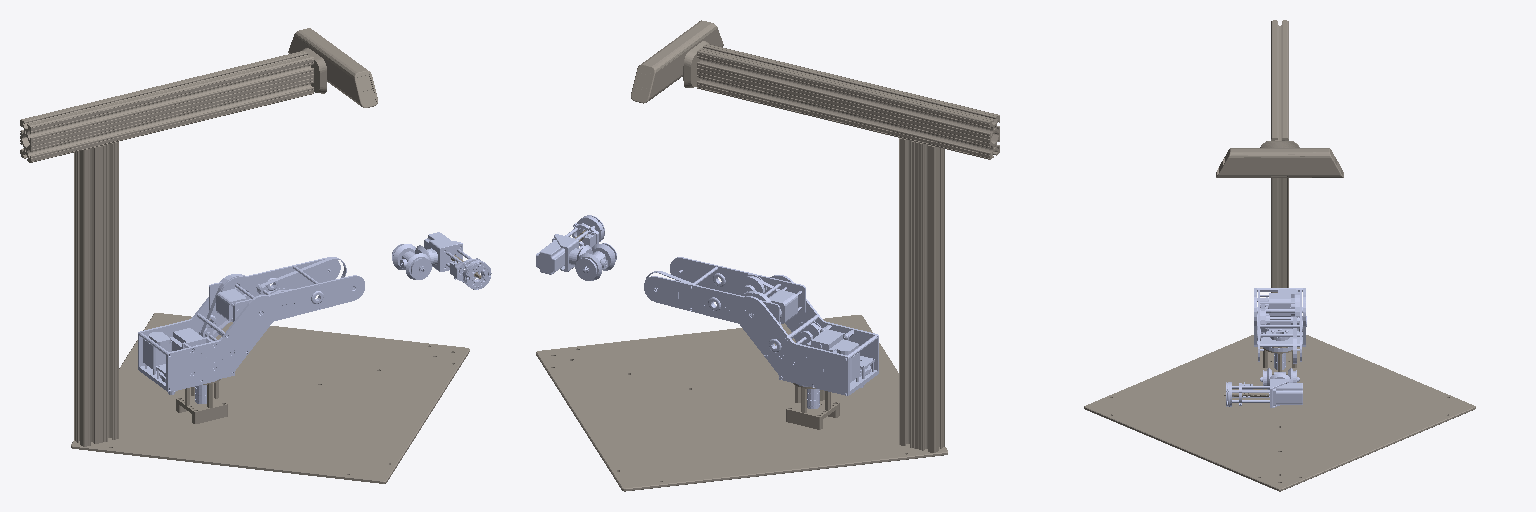
URDF robot description (dorna_2_urdf):
<?xml version="1.0" encoding="utf-8"?>
<!-- This URDF was automatically created by SolidWorks to URDF Exporter! Originally created by [author] ([email redacted]) 
     Commit Version: 1.6.0-1-g15f4949  Build Version: 1.6.7594.29634
     For more information, please see http://wiki.ros.org/sw_urdf_exporter -->
<robot
  name="dorna_2_urdf">
  <link
    name="base_link">
    <inertial>
      <origin
        xyz="0.12698 1.4251E-06 0.055207"
        rpy="0 0 0" />
      <mass
        value="20.928" />
      <inertia
        ixx="0.60154"
        ixy="8.1377E-09"
        ixz="1.943E-05"
        iyy="0.62155"
        iyz="9.3581E-07"
        izz="1.1706" />
    </inertial>
    <visual>
      <origin
        xyz="0 0 0"
        rpy="0 0 0" />
      <geometry>
        <mesh
          filename="package://dorna_2_urdf/meshes/base_link.STL" />
      </geometry>
      <material
        name="">
        <color
          rgba="0.64706 0.61961 0.58824 1" />
      </material>
    </visual>
    <collision>
      <origin
        xyz="0 0 0"
        rpy="0 0 0" />
      <geometry>
        <mesh
          filename="package://dorna_2_urdf/meshes/base_link.STL" />
      </geometry>
    </collision>
  </link>
  <link
    name="Link_1">
    <inertial>
      <origin
        xyz="-0.022037 7.1084E-05 0.13277"
        rpy="0 0 0" />
      <mass
        value="0.70203" />
      <inertia
        ixx="0.0016762"
        ixy="0.00012689"
        ixz="-0.00047838"
        iyy="0.0028093"
        iyz="-3.1578E-05"
        izz="0.0029334" />
    </inertial>
    <visual>
      <origin
        xyz="0 0 0"
        rpy="0 0 0" />
      <geometry>
        <mesh
          filename="package://dorna_2_urdf/meshes/Link_1.STL" />
      </geometry>
      <material
        name="">
        <color
          rgba="0.79216 0.81961 0.93333 1" />
      </material>
    </visual>
    <collision>
      <origin
        xyz="0 0 0"
        rpy="0 0 0" />
      <geometry>
        <mesh
          filename="package://dorna_2_urdf/meshes/Link_1.STL" />
      </geometry>
    </collision>
  </link>
  <joint
    name="Joint_0"
    type="revolute">
    <origin
      xyz="0 0 0"
      rpy="0 0 0" />
    <parent
      link="base_link" />
    <child
      link="Link_1" />
    <axis
      xyz="0 0 1" />
    <limit
      lower="-2.7925"
      upper="3.1416"
      effort="10"
      velocity="10.472" />
  </joint>
  <link
    name="Link_2">
    <inertial>
      <origin
        xyz="0.033004 -0.047997 1.1969E-06"
        rpy="0 0 0" />
      <mass
        value="0.32464" />
      <inertia
        ixx="0.00048989"
        ixy="6.9763E-05"
        ixz="1.952E-08"
        iyy="0.0017419"
        iyz="-9.866E-09"
        izz="0.0020909" />
    </inertial>
    <visual>
      <origin
        xyz="0 0 0"
        rpy="0 0 0" />
      <geometry>
        <mesh
          filename="package://dorna_2_urdf/meshes/Link_2.STL" />
      </geometry>
      <material
        name="">
        <color
          rgba="0.79216 0.81961 0.93333 1" />
      </material>
    </visual>
    <collision>
      <origin
        xyz="0 0 0"
        rpy="0 0 0" />
      <geometry>
        <mesh
          filename="package://dorna_2_urdf/meshes/Link_2.STL" />
      </geometry>
    </collision>
  </link>
  <joint
    name="Joint_1"
    type="revolute">
    <origin
      xyz="0.095476 0.0508 0.20647"
      rpy="0 0 0" />
    <parent
      link="Link_1" />
    <child
      link="Link_2" />
    <axis
      xyz="0 1 0" />
    <limit
      lower="-1.5708"
      upper="3.1415"
      effort="10"
      velocity="7.854" />
  </joint>
  <link
    name="Link_3">
    <inertial>
      <origin
        xyz="0.021064 -0.042837 -6.2521E-08"
        rpy="0 0 0" />
      <mass
        value="0.27313" />
      <inertia
        ixx="0.00021713"
        ixy="2.2442E-05"
        ixz="3.6407E-08"
        iyy="0.00085068"
        iyz="-1.2633E-08"
        izz="0.00098072" />
    </inertial>
    <visual>
      <origin
        xyz="0 0 0"
        rpy="0 0 0" />
      <geometry>
        <mesh
          filename="package://dorna_2_urdf/meshes/Link_3.STL" />
      </geometry>
      <material
        name="">
        <color
          rgba="0.79216 0.81961 0.93333 1" />
      </material>
    </visual>
    <collision>
      <origin
        xyz="0 0 0"
        rpy="0 0 0" />
      <geometry>
        <mesh
          filename="package://dorna_2_urdf/meshes/Link_3.STL" />
      </geometry>
    </collision>
  </link>
  <joint
    name="Joint_2"
    type="revolute">
    <origin
      xyz="0.2032 -0.00635 0"
      rpy="0 0 0" />
    <parent
      link="Link_2" />
    <child
      link="Link_3" />
    <axis
      xyz="0 1 0" />
    <limit
      lower="-2.4784"
      upper="2.4784"
      effort="10"
      velocity="7.854" />
  </joint>
  <link
    name="Link_4">
    <inertial>
      <origin
        xyz="-5.9653E-10 -0.041275 -1.0071E-09"
        rpy="0 0 0" />
      <mass
        value="0.076836" />
      <inertia
        ixx="5.639E-05"
        ixy="-2.2838E-13"
        ixz="-6.7695E-14"
        iyy="1.719E-05"
        iyz="1.776E-12"
        izz="5.5885E-05" />
    </inertial>
    <visual>
      <origin
        xyz="0 0 0"
        rpy="0 0 0" />
      <geometry>
        <mesh
          filename="package://dorna_2_urdf/meshes/Link_4.STL" />
      </geometry>
      <material
        name="">
        <color
          rgba="0.79216 0.81961 0.93333 1" />
      </material>
    </visual>
    <collision>
      <origin
        xyz="0 0 0"
        rpy="0 0 0" />
      <geometry>
        <mesh
          filename="package://dorna_2_urdf/meshes/Link_4.STL" />
      </geometry>
    </collision>
  </link>
  <joint
    name="Joint_3"
    type="revolute">
    <origin
      xyz="0.1524 -0.003175 0"
      rpy="0 0 0" />
    <parent
      link="Link_3" />
    <child
      link="Link_4" />
    <axis
      xyz="0 -1 0" />
    <limit
      lower="-2.3562"
      upper="2.3562"
      effort="10"
      velocity="34.907" />
  </joint>
  <link
    name="Link_5">
    <inertial>
      <origin
        xyz="0.088867 -0.033145 -2.1341E-05"
        rpy="0 0 0" />
      <mass
        value="0.28989" />
      <inertia
        ixx="0.00010845"
        ixy="2.7205E-06"
        ixz="1.2546E-08"
        iyy="8.8784E-05"
        iyz="2.4118E-08"
        izz="0.00010988" />
    </inertial>
    <visual>
      <origin
        xyz="0 0 0"
        rpy="0 0 0" />
      <geometry>
        <mesh
          filename="package://dorna_2_urdf/meshes/Link_5.STL" />
      </geometry>
      <material
        name="">
        <color
          rgba="0.79216 0.81961 0.93333 1" />
      </material>
    </visual>
    <collision>
      <origin
        xyz="0 0 0"
        rpy="0 0 0" />
      <geometry>
        <mesh
          filename="package://dorna_2_urdf/meshes/Link_5.STL" />
      </geometry>
    </collision>
  </link>
  <joint
    name="Joint_4"
    type="continuous">
    <origin
      xyz="-0.021438 -0.041275 0"
      rpy="0 0 0" />
    <parent
      link="Link_4" />
    <child
      link="Link_5" />
    <axis
      xyz="-1 0 0" />
  </joint>
  <link
    name="Link_6">
    <inertial>
      <origin
        xyz="-9.5404E-06 0.051551 1.0778E-07"
        rpy="0 0 0" />
      <mass
        value="0.054936" />
      <inertia
        ixx="7.5563E-06"
        ixy="7.2422E-09"
        ixz="1.4116E-11"
        iyy="1.0764E-06"
        iyz="-1.4264E-10"
        izz="7.5041E-06" />
    </inertial>
    <visual>
      <origin
        xyz="0 0 0"
        rpy="0 0 0" />
      <geometry>
        <mesh
          filename="package://dorna_2_urdf/meshes/Link_6.STL" />
      </geometry>
      <material
        name="">
        <color
          rgba="0.64706 0.61961 0.58431 1" />
      </material>
    </visual>
    <collision>
      <origin
        xyz="0 0 0"
        rpy="0 0 0" />
      <geometry>
        <mesh
          filename="package://dorna_2_urdf/meshes/Link_6.STL" />
      </geometry>
    </collision>
  </link>
  <joint
    name="Joint_5"
    type="continuous">
    <origin
      xyz="0.097875 -0.12269 0"
      rpy="0 0 0" />
    <parent
      link="Link_5" />
    <child
      link="Link_6" />
    <axis
      xyz="0 1 0" />
  </joint>
</robot>

--- Facts derived from the render (not from the file) ---
Views: 3 orthographic renders of the robot side by side, from view 1: azimuth 30°, elevation 25°; view 2: azimuth 150°, elevation 25°; view 3: azimuth 270°, elevation 25°.
Robot: dorna_2_urdf — 7 links, 6 joints (4 revolute, 2 continuous); root link base_link; default pose: all joints at 0.
Links seen in each view (by area): view 1: base_link, Link_1, Link_2, Link_5, Link_4; view 2: base_link, Link_1, Link_2, Link_5, Link_4; view 3: base_link, Link_2, Link_1, Link_5.
Link boxes in pixels (x1,y1,x2,y2): base_link: (20, 28, 469, 483); Link_1: (138, 274, 276, 403); Link_2: (209, 257, 364, 321); Link_5: (400, 232, 491, 289); Link_4: (392, 244, 431, 279); base_link: (536, 20, 999, 491); Link_1: (735, 275, 878, 408); Link_2: (644, 257, 805, 323); Link_5: (536, 215, 607, 274); Link_4: (575, 243, 616, 280); base_link: (1084, 20, 1475, 491); Link_2: (1257, 290, 1302, 363); Link_1: (1254, 288, 1306, 369); Link_5: (1226, 373, 1302, 407).
Bounding box of the posed robot: 0.9545 × 0.8564 × 0.6922 m (x, y, z).
Meshes: 7 distinct files referenced, 6 mesh visuals loaded (6 binary STL); not drawn: 1 (reference not matched to a file when rendering).